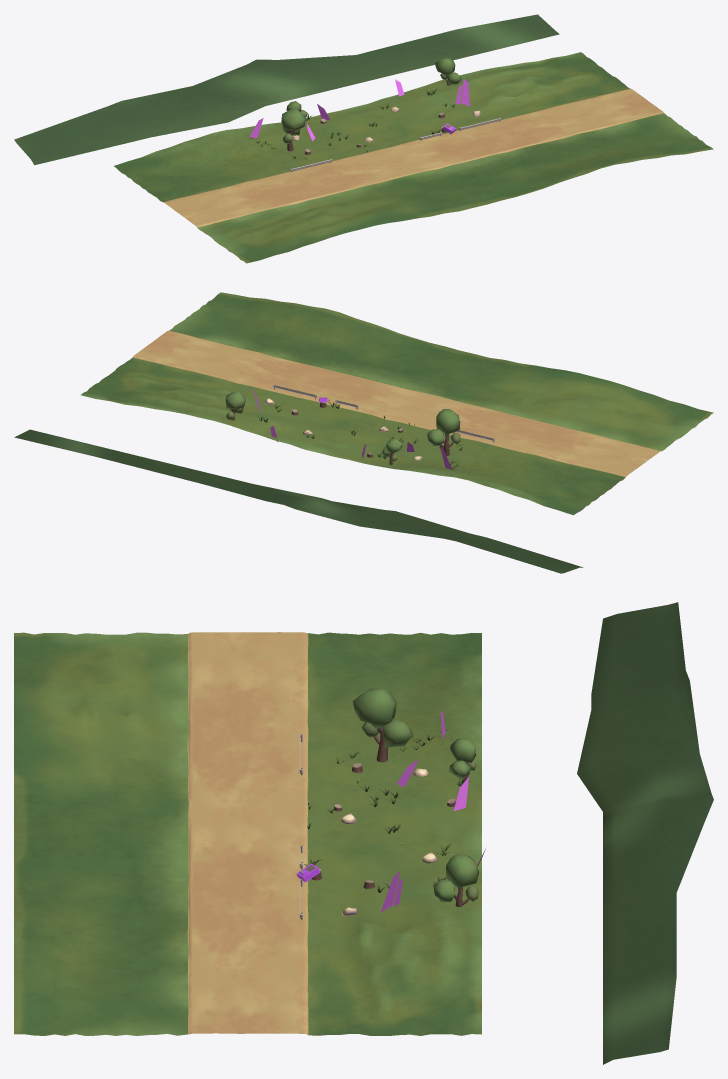
Rendered from Stage01_GrassField.fbx.
The picture shows the model from 3 angles, top to bottom: view 1: azimuth 30°, elevation 25°; view 2: azimuth 150°, elevation 25°; view 3: azimuth 270°, elevation 25°; orthographic projection. The views are drawn at different scales.
Parts seen in each view (by area): view 1: Stage01_GrassField; view 2: Stage01_GrassField; view 3: Stage01_GrassField.
Part boxes in pixels (left/top/right/bottom): Stage01_GrassField: left=14, top=14, right=713, bottom=263; Stage01_GrassField: left=14, top=292, right=713, bottom=573; Stage01_GrassField: left=14, top=602, right=713, bottom=1064.
Size of the model in its own units: 1148 by 115 by 753.
